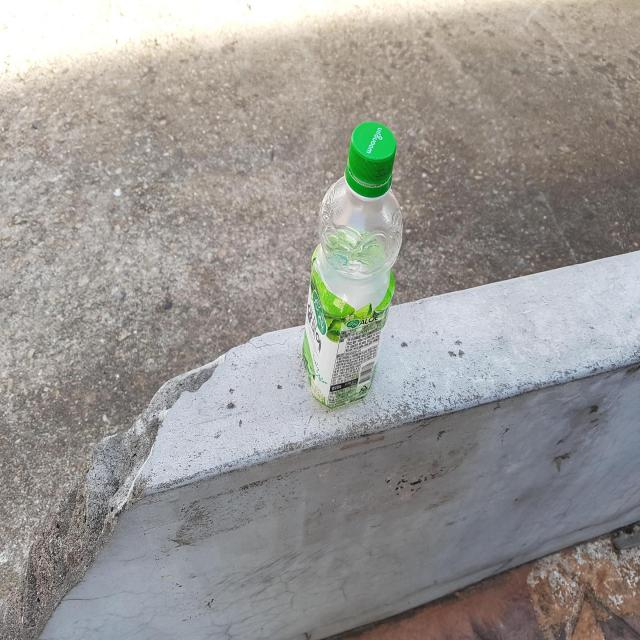plastic: (303, 121, 403, 408)
